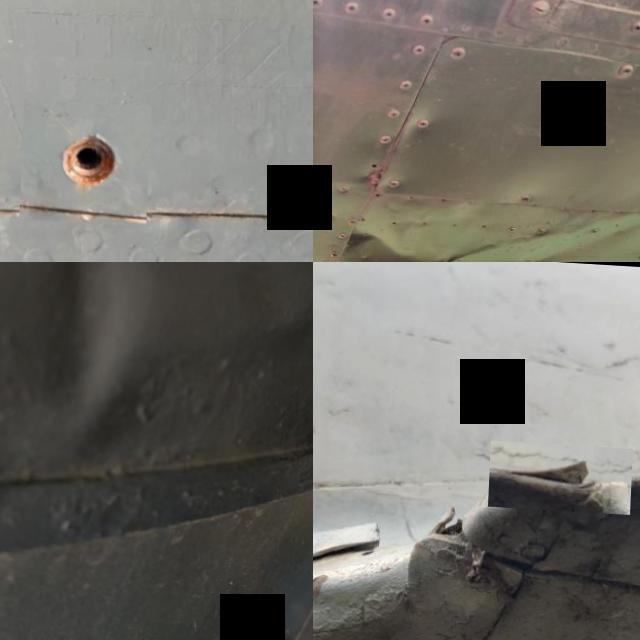Crack: (490, 436, 635, 508), (408, 481, 492, 558)
Dent: (313, 152, 640, 262), (0, 262, 173, 435)
Missing_Fastener: (24, 98, 154, 224)
